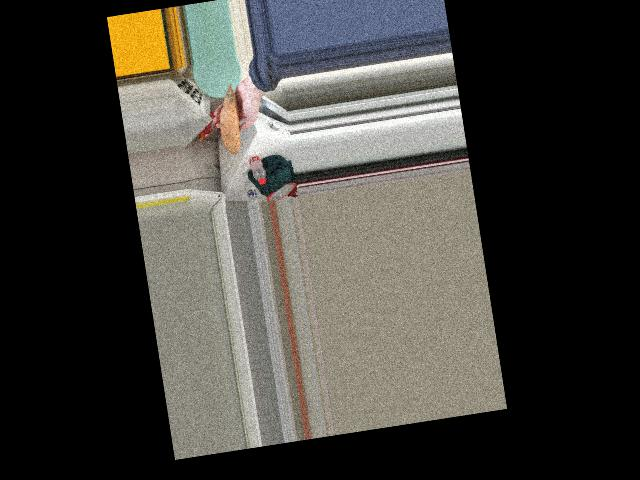sweet_potato: (218, 86, 245, 149)
